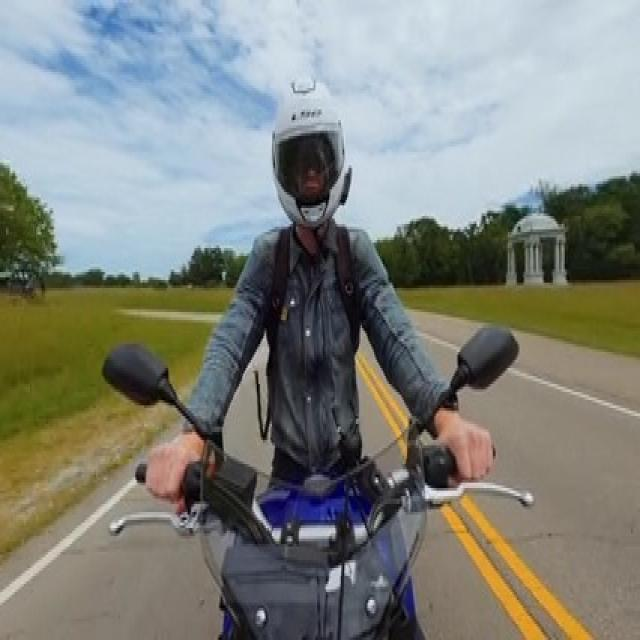Helmet_Wearer: (264, 62, 353, 245)
Person: (151, 64, 494, 481)
